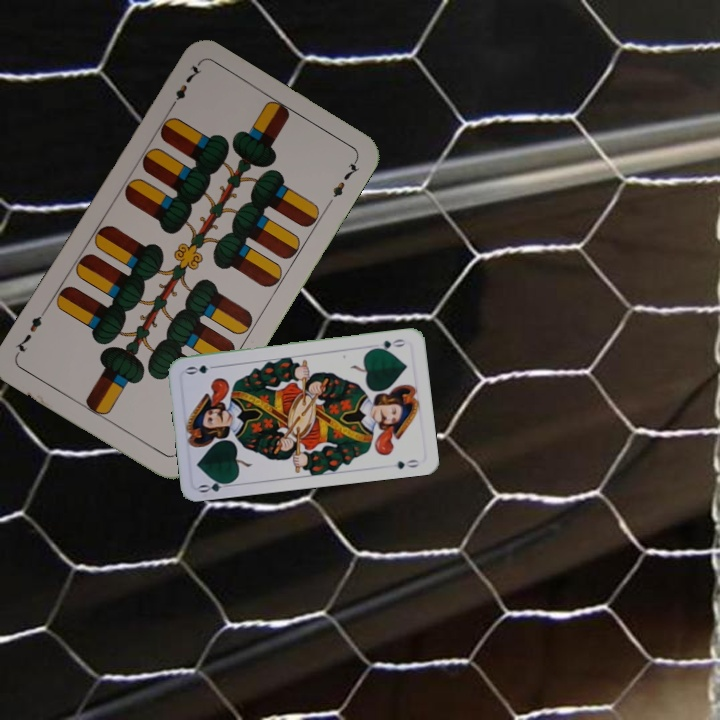E7: (165, 59, 205, 113)
GO: (195, 475, 236, 495), (369, 335, 408, 354)
